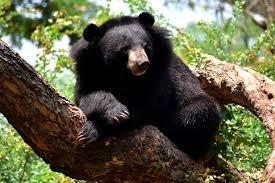bear: (71, 12, 220, 159)
